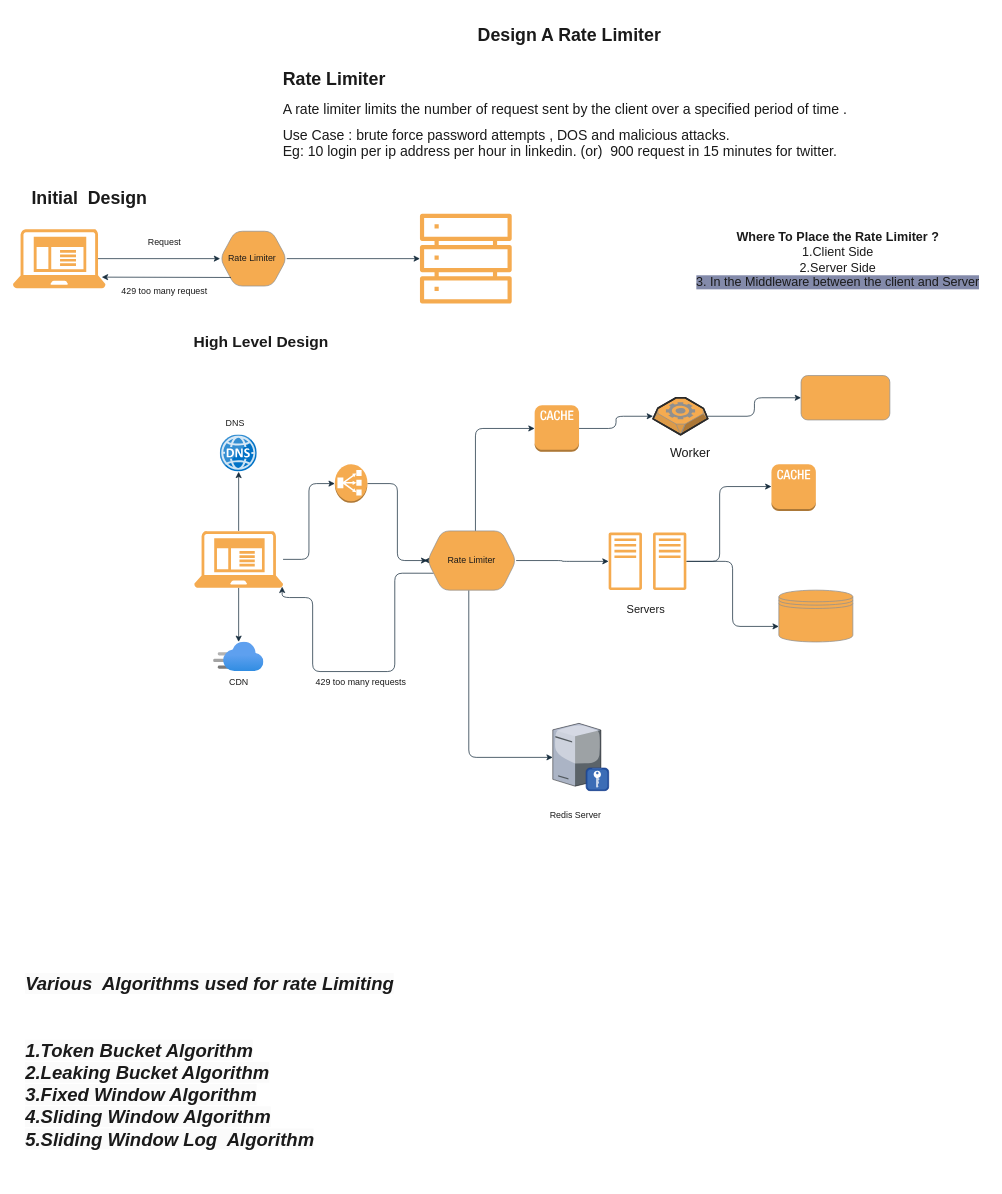
Some shapes in this 1002 by 1194 pixel diagram are drawn without their labels. Here are the shapes that lost their labels. From the top down, the centre of each, then its label:
At (845,397): "Rules".
At (815,615): "Data Base".
